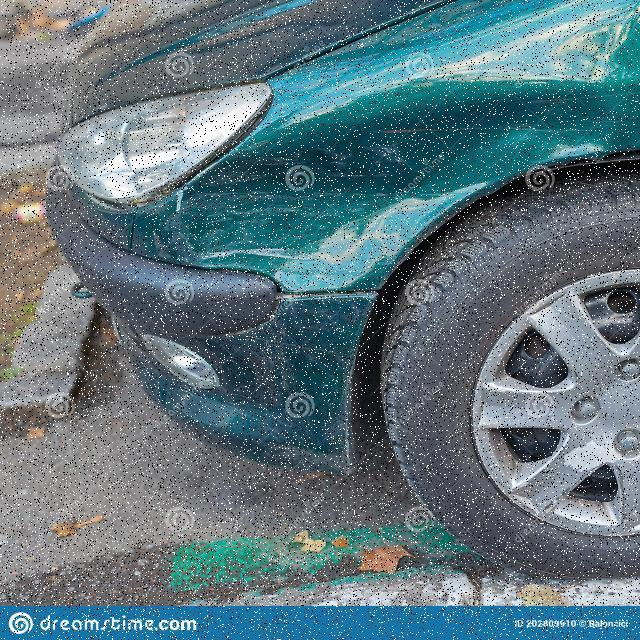fender-dent: (205, 36, 640, 296)
